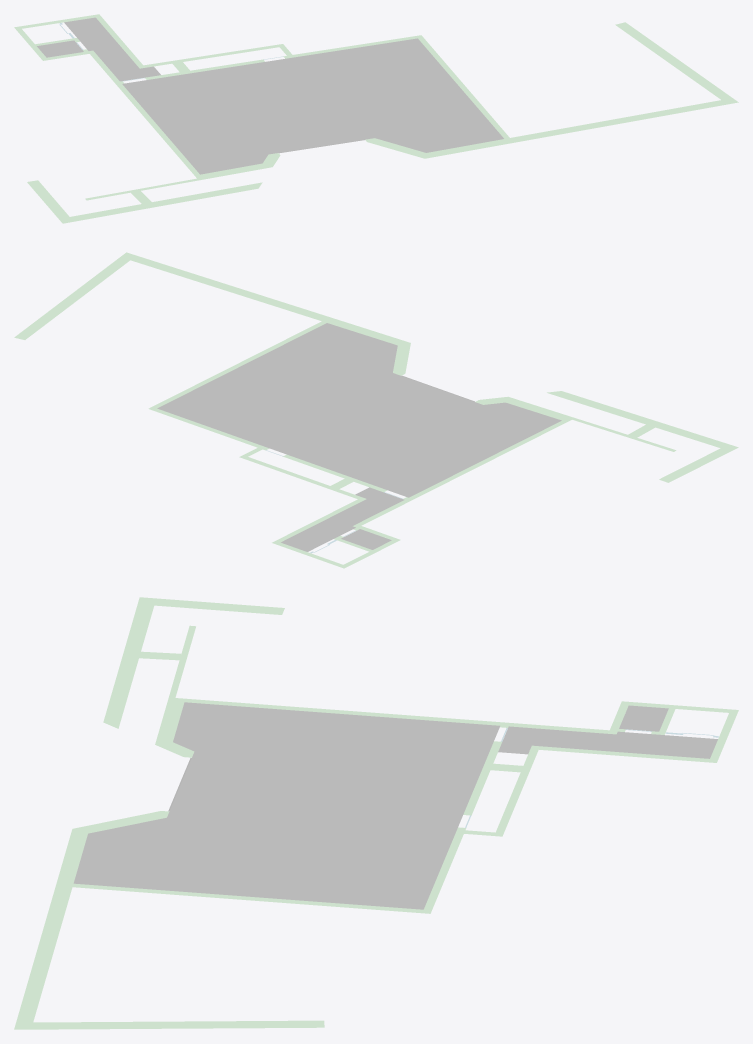
The model's file is floor-488450.glb.
The picture shows the model from 3 angles, top to bottom: view 1: azimuth 30°, elevation 25°; view 2: azimuth 150°, elevation 25°; view 3: azimuth 270°, elevation 25°; orthographic projection. The views are drawn at different scales.
Parts seen in each view (by area): view 1: SectionBody_4,9262e225-3d3e-4223-af8c-39a43748f051, SectionBody_39,79dacf31-d170-4d42-8cd6-e2502d9dd912, SectionBody_5,f5be9884-1ec4-4bdf-83fe-4a4f57898bca, SectionBody_33,188ced9f-8953-4fa2-9da6-4d38ebbba89a, SectionBody_14,817ea7ed-bc4a-429e-8aee-e4c509cef56e, SectionBody_31,56e9920e-9171-40fc-aef1-674cbf696aba, SectionBody_35,97a04eb2-c051-4e70-8a77-125c31b0593a, SectionBody_34,411345c2-e148-4ff6-b8ca-cf33021b04e4, SectionBody_28,4a787c18-0a65-4c3d-a247-b4a747b72b2c, SectionBody_32,5d698d65-98b9-433e-8304-2e90b4b09615, SectionBody_15,f6f1b012-7715-42a3-9133-fb42fe1856f1, SectionBody_13,773b7b34-930c-4fec-8f25-2490a8cc6f6e (+2 smaller); view 2: SectionBody_4,9262e225-3d3e-4223-af8c-39a43748f051, SectionBody_39,79dacf31-d170-4d42-8cd6-e2502d9dd912, SectionBody_5,f5be9884-1ec4-4bdf-83fe-4a4f57898bca, SectionBody_33,188ced9f-8953-4fa2-9da6-4d38ebbba89a, SectionBody_14,817ea7ed-bc4a-429e-8aee-e4c509cef56e, SectionBody_31,56e9920e-9171-40fc-aef1-674cbf696aba, SectionBody_35,97a04eb2-c051-4e70-8a77-125c31b0593a, SectionBody_28,4a787c18-0a65-4c3d-a247-b4a747b72b2c, SectionBody_34,411345c2-e148-4ff6-b8ca-cf33021b04e4; view 3: SectionBody_4,9262e225-3d3e-4223-af8c-39a43748f051, SectionBody_39,79dacf31-d170-4d42-8cd6-e2502d9dd912, SectionBody_5,f5be9884-1ec4-4bdf-83fe-4a4f57898bca, SectionBody_14,817ea7ed-bc4a-429e-8aee-e4c509cef56e, SectionBody_33,188ced9f-8953-4fa2-9da6-4d38ebbba89a, SectionBody_31,56e9920e-9171-40fc-aef1-674cbf696aba, SectionBody_35,97a04eb2-c051-4e70-8a77-125c31b0593a, SectionBody_28,4a787c18-0a65-4c3d-a247-b4a747b72b2c, SectionBody_34,411345c2-e148-4ff6-b8ca-cf33021b04e4, SectionBody_32,5d698d65-98b9-433e-8304-2e90b4b09615, SectionBody_41,ffc838d8-f05f-4896-900f-1263455c88a6, SectionBody_15,f6f1b012-7715-42a3-9133-fb42fe1856f1 (+2 smaller).
Boxes of the visible parts, bbox=[...] form: SectionBody_4,9262e225-3d3e-4223-af8c-39a43748f051: bbox=[122, 38, 503, 174]; SectionBody_39,79dacf31-d170-4d42-8cd6-e2502d9dd912: bbox=[64, 17, 160, 81]; SectionBody_5,f5be9884-1ec4-4bdf-83fe-4a4f57898bca: bbox=[413, 98, 738, 158]; SectionBody_33,188ced9f-8953-4fa2-9da6-4d38ebbba89a: bbox=[59, 182, 262, 223]; SectionBody_14,817ea7ed-bc4a-429e-8aee-e4c509cef56e: bbox=[615, 22, 731, 99]; SectionBody_31,56e9920e-9171-40fc-aef1-674cbf696aba: bbox=[90, 53, 199, 175]; SectionBody_35,97a04eb2-c051-4e70-8a77-125c31b0593a: bbox=[416, 35, 509, 138]; SectionBody_34,411345c2-e148-4ff6-b8ca-cf33021b04e4: bbox=[37, 40, 83, 57]; SectionBody_28,4a787c18-0a65-4c3d-a247-b4a747b72b2c: bbox=[27, 180, 69, 218]; SectionBody_32,5d698d65-98b9-433e-8304-2e90b4b09615: bbox=[138, 44, 284, 68]; SectionBody_15,f6f1b012-7715-42a3-9133-fb42fe1856f1: bbox=[287, 36, 417, 57]; SectionBody_13,773b7b34-930c-4fec-8f25-2490a8cc6f6e: bbox=[120, 56, 288, 83]; SectionBody_4,9262e225-3d3e-4223-af8c-39a43748f051: bbox=[157, 323, 561, 497]; SectionBody_39,79dacf31-d170-4d42-8cd6-e2502d9dd912: bbox=[281, 487, 404, 551]; SectionBody_5,f5be9884-1ec4-4bdf-83fe-4a4f57898bca: bbox=[121, 252, 410, 349]; SectionBody_33,188ced9f-8953-4fa2-9da6-4d38ebbba89a: bbox=[547, 391, 738, 451]; SectionBody_14,817ea7ed-bc4a-429e-8aee-e4c509cef56e: bbox=[14, 257, 129, 339]; SectionBody_31,56e9920e-9171-40fc-aef1-674cbf696aba: bbox=[357, 420, 566, 525]; SectionBody_35,97a04eb2-c051-4e70-8a77-125c31b0593a: bbox=[148, 321, 326, 410]; SectionBody_28,4a787c18-0a65-4c3d-a247-b4a747b72b2c: bbox=[659, 448, 730, 482]; SectionBody_34,411345c2-e148-4ff6-b8ca-cf33021b04e4: bbox=[341, 529, 391, 549]; SectionBody_4,9262e225-3d3e-4223-af8c-39a43748f051: bbox=[73, 702, 499, 909]; SectionBody_39,79dacf31-d170-4d42-8cd6-e2502d9dd912: bbox=[498, 726, 717, 758]; SectionBody_5,f5be9884-1ec4-4bdf-83fe-4a4f57898bca: bbox=[14, 825, 90, 1029]; SectionBody_14,817ea7ed-bc4a-429e-8aee-e4c509cef56e: bbox=[31, 1020, 324, 1029]; SectionBody_33,188ced9f-8953-4fa2-9da6-4d38ebbba89a: bbox=[103, 597, 156, 728]; SectionBody_31,56e9920e-9171-40fc-aef1-674cbf696aba: bbox=[184, 698, 609, 733]; SectionBody_35,97a04eb2-c051-4e70-8a77-125c31b0593a: bbox=[72, 883, 431, 913]; SectionBody_28,4a787c18-0a65-4c3d-a247-b4a747b72b2c: bbox=[154, 598, 284, 614]; SectionBody_34,411345c2-e148-4ff6-b8ca-cf33021b04e4: bbox=[619, 705, 668, 731]; SectionBody_32,5d698d65-98b9-433e-8304-2e90b4b09615: bbox=[494, 745, 539, 836]; SectionBody_41,ffc838d8-f05f-4896-900f-1263455c88a6: bbox=[539, 746, 717, 762]; SectionBody_15,f6f1b012-7715-42a3-9133-fb42fe1856f1: bbox=[424, 829, 465, 910].
Bounding box in the file's own units: 30107 × 0 × 21325.
